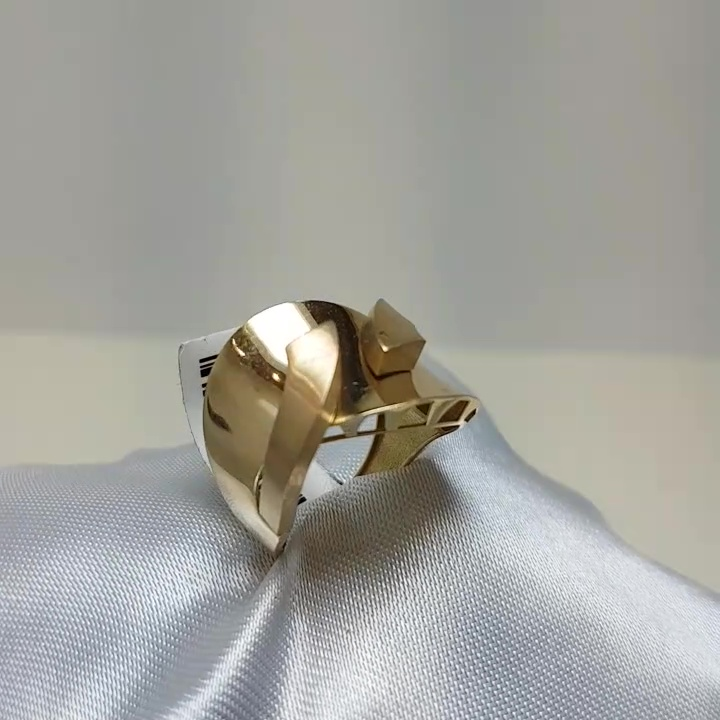Ring 4: (128, 288, 488, 570)
